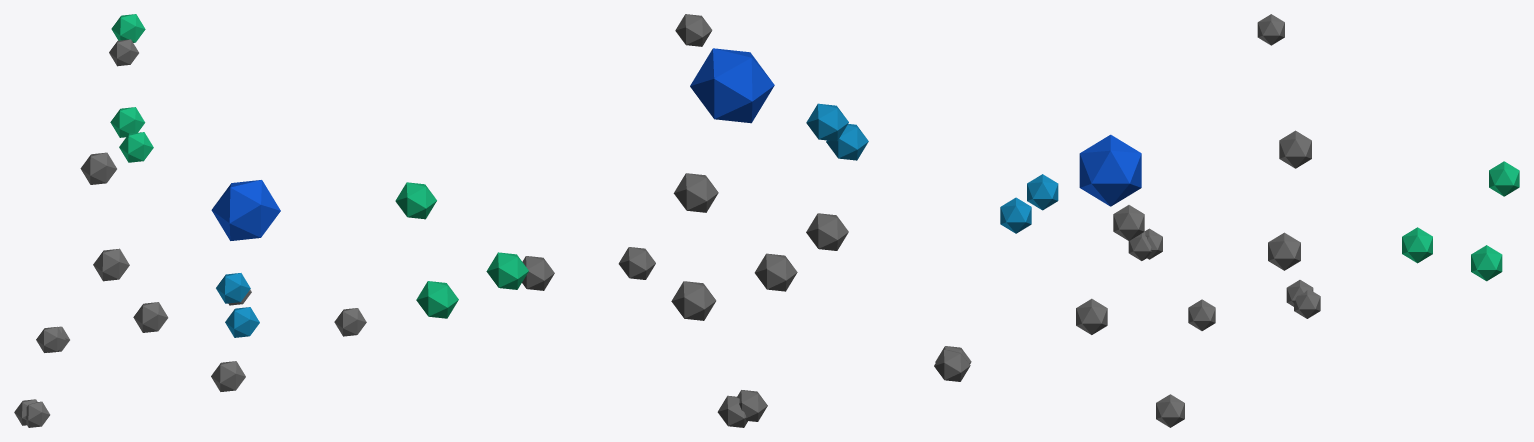
The picture shows the model from 3 angles, left to right: view 1: azimuth 30°, elevation 25°; view 2: azimuth 150°, elevation 25°; view 3: azimuth 270°, elevation 25°; orthographic projection. The views are drawn at different scales.
Visible parts, largest first — view 1: 09_08_08; view 2: 09_08_08; view 3: 09_08_08.
Part boxes in pixels (left/top/right/bottom): 09_08_08: left=14, top=14, right=366, bottom=427; 09_08_08: left=395, top=14, right=971, bottom=427; 09_08_08: left=1000, top=14, right=1519, bottom=427.
Bounding box in the file's own units: 0.4819 × 0.403 × 0.5844.
